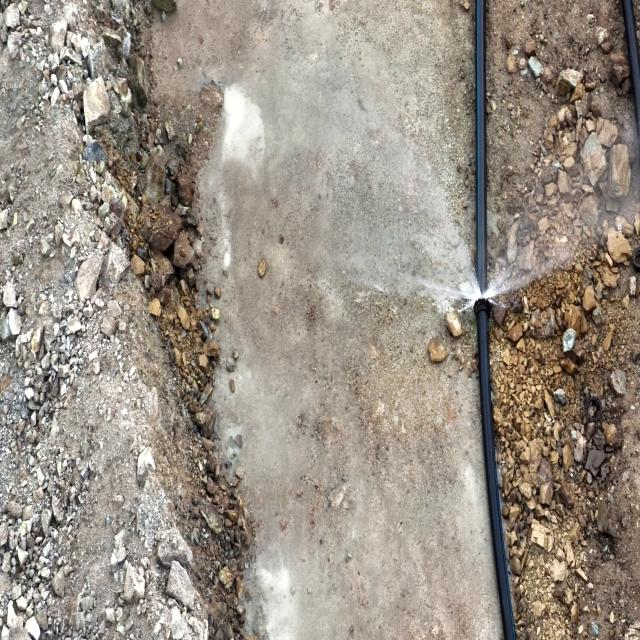leak: (392, 180, 603, 316)
